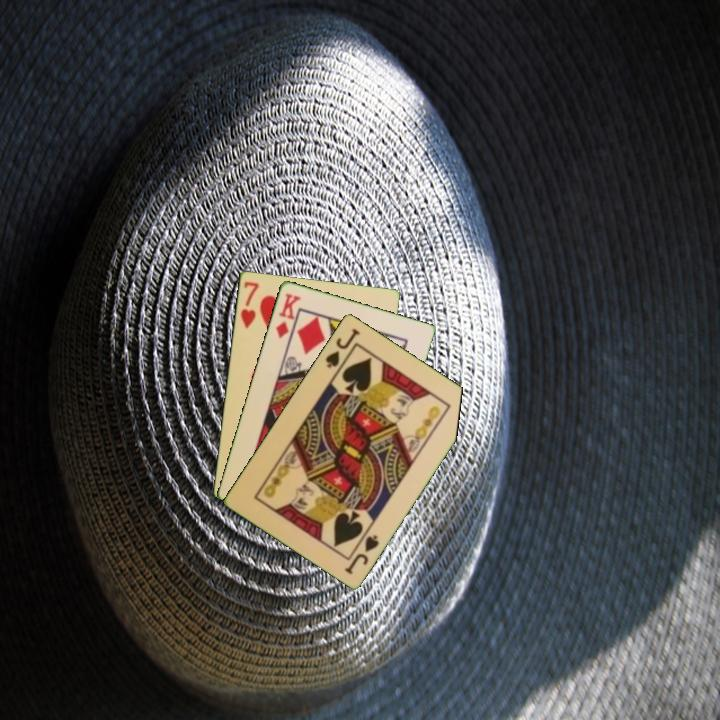7h: (237, 277, 262, 331)
Js: (321, 324, 363, 371), (341, 531, 382, 577)
Kd: (272, 289, 303, 341)
